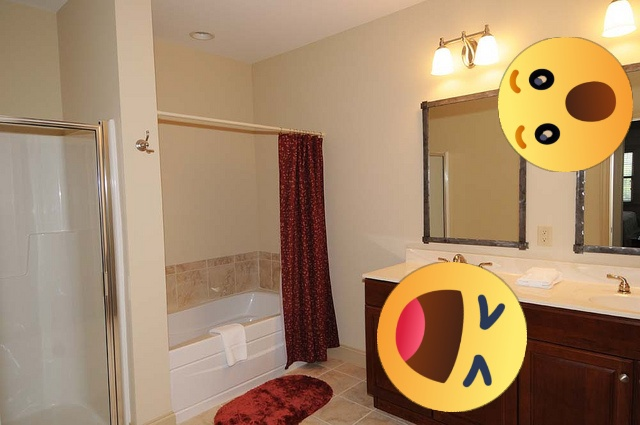haha: (377, 262, 527, 412)
wow: (498, 37, 633, 172)
